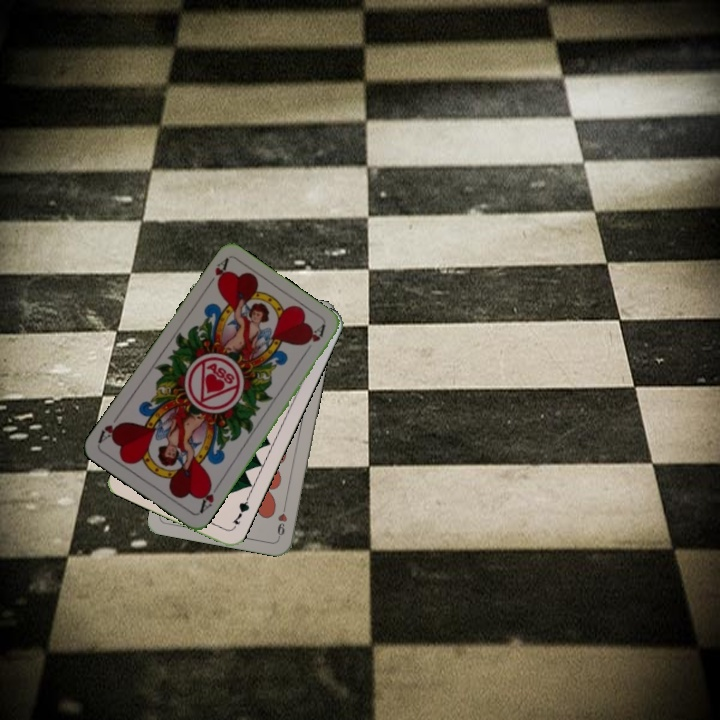G7: (228, 493, 252, 532)
H9: (273, 500, 290, 541)
HA: (202, 255, 231, 291), (195, 478, 222, 516)
